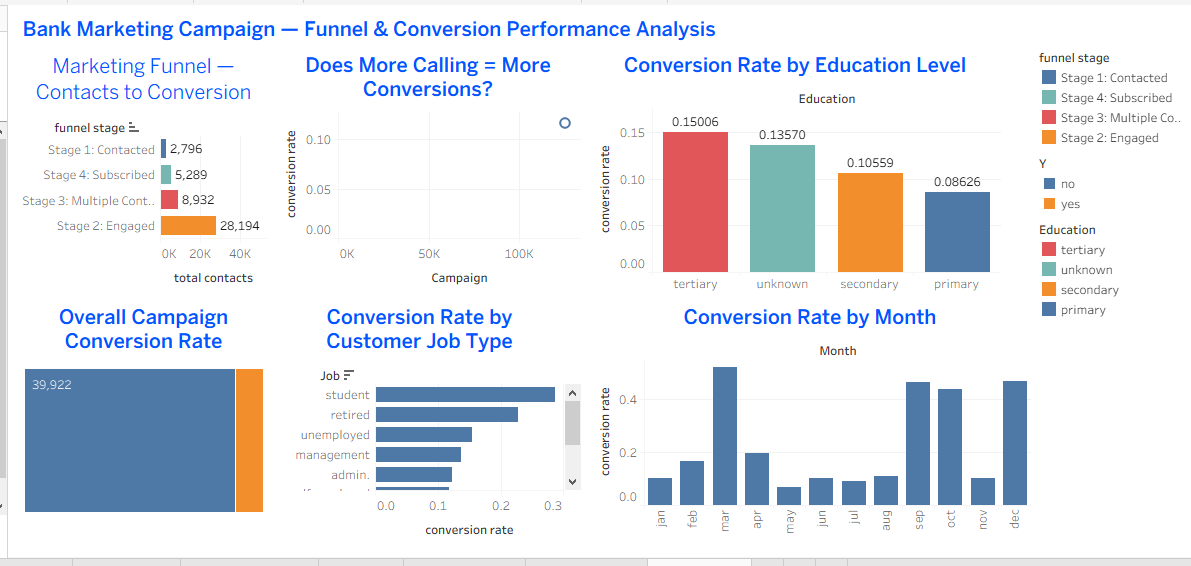

The page's visual inventory and layout, read from the dashboard file:
{"tool":"tableau","page":{"name":"Dashboard 1","canvas":[1000,1000],"units":"permille","ordinal":0},"visuals":[{"type":"text","box":[6.7,14.5,986.6,58]},{"type":"worksheet","title":"funnel overview","mark":"Automatic","rows":["Calculation_1326591614542589958"],"cols":["Calculation_1326591614538067968"],"box":[6.7,72.5,213.2,456.5]},{"type":"worksheet","title":"Contact Frequency","mark":"Automatic","rows":["Calculation_1326591614538719235"],"cols":["campaign"],"box":[219.9,72.5,263,456.5]},{"type":"worksheet","title":"Education Analysis","mark":"Automatic","rows":["Calculation_1326591614538719235"],"cols":["education"],"box":[482.9,72.5,351.9,456.5]},{"type":"text","box":[834.7,72.5,24.7,456.5]},{"type":"legend","title":"funnel overview","param":"[federated.069wfzh1ei1c3e18hysu701u3mu2].[none:Calculation_1326591614542589958:n","box":[859.4,72.5,133.9,192]},{"type":"legend","title":"Conversion Split","param":"[federated.069wfzh1ei1c3e18hysu701u3mu2].[none:y:nk]","box":[859.4,264.5,133.9,119.6]},{"type":"legend","title":"Education Analysis","param":"[federated.069wfzh1ei1c3e18hysu701u3mu2].[none:education:nk]","box":[859.4,384.1,133.9,192]},{"type":"worksheet","title":"Conversion Split","mark":"Automatic","box":[6.7,529,213.2,456.5]},{"type":"worksheet","title":"Job Analysis","mark":"Automatic","rows":["job"],"cols":["Calculation_1326591614538719235"],"box":[219.9,529,263,456.5]},{"type":"worksheet","title":"Monthly Performance","mark":"Automatic","rows":["Calculation_1326591614538719235"],"cols":["month"],"box":[482.9,529,376.6,456.5]}]}

Visuals, with their boxes on the dashboard's canvas, which has no fixed pixel size, in thousandths of its width and height (x1, y1, x2, y2). These are canvas units, not pixel positions in the 1191x566 screenshot, which may show the page scaled, cropped or inside an application window:
text: x1=7, y1=14, x2=993, y2=72
"funnel overview" worksheet: x1=7, y1=72, x2=220, y2=529
"Contact Frequency" worksheet: x1=220, y1=72, x2=483, y2=529
"Education Analysis" worksheet: x1=483, y1=72, x2=835, y2=529
text: x1=835, y1=72, x2=859, y2=529
"funnel overview" legend: x1=859, y1=72, x2=993, y2=264
"Conversion Split" legend: x1=859, y1=264, x2=993, y2=384
"Education Analysis" legend: x1=859, y1=384, x2=993, y2=576
"Conversion Split" worksheet: x1=7, y1=529, x2=220, y2=986
"Job Analysis" worksheet: x1=220, y1=529, x2=483, y2=986
"Monthly Performance" worksheet: x1=483, y1=529, x2=860, y2=986
